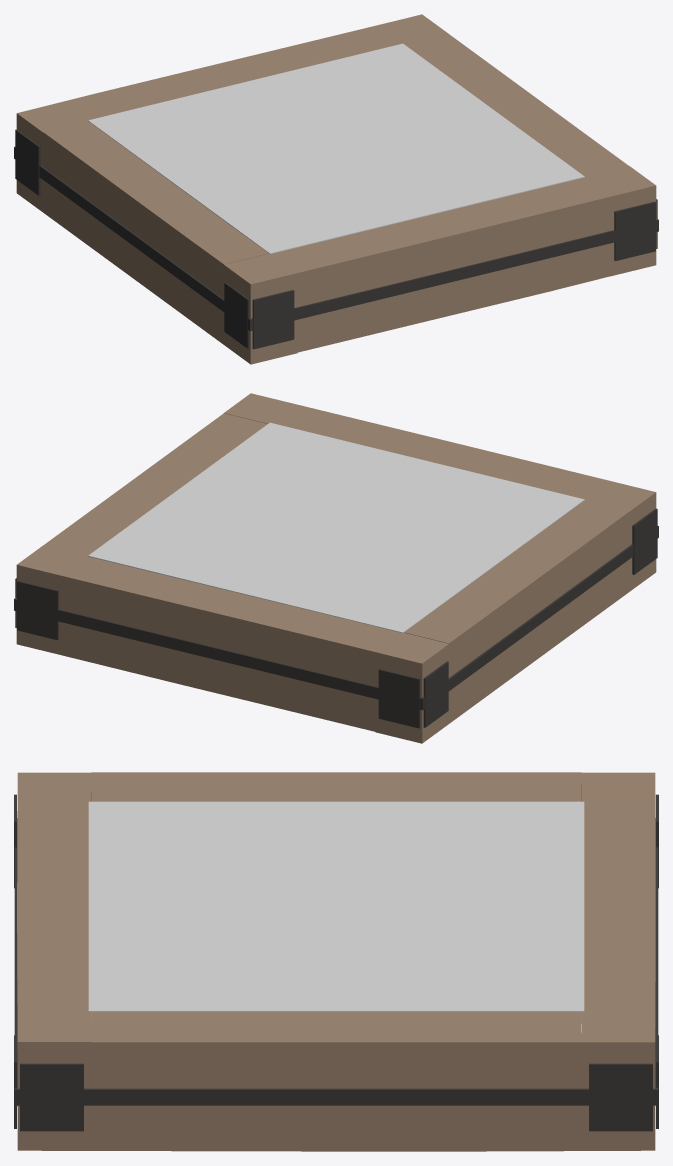
File: Kit_RealTower_R2_Fractured.fbx
The picture shows the model from 3 angles, top to bottom: view 1: azimuth 30°, elevation 25°; view 2: azimuth 150°, elevation 25°; view 3: azimuth 270°, elevation 25°; orthographic projection. The views are drawn at different scales.
Parts seen in each view (by area): view 1: Kit_RealTower_R2_frag_08, Kit_RealTower_R2_frag_10, Kit_RealTower_R2_frag_09, Kit_RealTower_R2_frag_05, Kit_RealTower_R2_frag_11, Kit_RealTower_R2_frag_12, Kit_RealTower_R2_frag_13, Kit_RealTower_R2_frag_14, Kit_RealTower_R2_frag_04, Kit_RealTower_R2_frag_01, Kit_RealTower_R2_frag_16, Kit_RealTower_R2_frag_15 (+1 smaller); view 2: Kit_RealTower_R2_frag_08, Kit_RealTower_R2_frag_10, Kit_RealTower_R2_frag_09, Kit_RealTower_R2_frag_14, Kit_RealTower_R2_frag_11, Kit_RealTower_R2_frag_16, Kit_RealTower_R2_frag_15, Kit_RealTower_R2_frag_06, Kit_RealTower_R2_frag_07, Kit_RealTower_R2_frag_01, Kit_RealTower_R2_frag_12, Kit_RealTower_R2_frag_05 (+1 smaller); view 3: Kit_RealTower_R2_frag_10, Kit_RealTower_R2_frag_11, Kit_RealTower_R2_frag_08, Kit_RealTower_R2_frag_09, Kit_RealTower_R2_frag_16, Kit_RealTower_R2_frag_02, Kit_RealTower_R2_frag_03, Kit_RealTower_R2_frag_05, Kit_RealTower_R2_frag_14, Kit_RealTower_R2_frag_12, Kit_RealTower_R2_frag_13, Kit_RealTower_R2_frag_15.
Boxes of the visible parts, bbox=[...] form: Kit_RealTower_R2_frag_08: bbox=[91, 147, 429, 305]; Kit_RealTower_R2_frag_10: bbox=[306, 86, 628, 215]; Kit_RealTower_R2_frag_09: bbox=[43, 81, 336, 231]; Kit_RealTower_R2_frag_05: bbox=[455, 166, 658, 314]; Kit_RealTower_R2_frag_11: bbox=[248, 34, 537, 123]; Kit_RealTower_R2_frag_12: bbox=[223, 232, 388, 349]; Kit_RealTower_R2_frag_13: bbox=[362, 199, 524, 297]; Kit_RealTower_R2_frag_14: bbox=[14, 79, 178, 248]; Kit_RealTower_R2_frag_04: bbox=[297, 281, 455, 352]; Kit_RealTower_R2_frag_01: bbox=[170, 261, 297, 364]; Kit_RealTower_R2_frag_16: bbox=[289, 14, 448, 64]; Kit_RealTower_R2_frag_15: bbox=[154, 46, 313, 97]; Kit_RealTower_R2_frag_08: bbox=[333, 460, 629, 686]; Kit_RealTower_R2_frag_10: bbox=[133, 413, 424, 551]; Kit_RealTower_R2_frag_09: bbox=[243, 528, 537, 677]; Kit_RealTower_R2_frag_14: bbox=[284, 611, 500, 743]; Kit_RealTower_R2_frag_11: bbox=[44, 480, 300, 594]; Kit_RealTower_R2_frag_16: bbox=[14, 545, 175, 655]; Kit_RealTower_R2_frag_15: bbox=[148, 578, 310, 676]; Kit_RealTower_R2_frag_06: bbox=[217, 660, 375, 731]; Kit_RealTower_R2_frag_07: bbox=[63, 623, 217, 693]; Kit_RealTower_R2_frag_01: bbox=[577, 508, 658, 629]; Kit_RealTower_R2_frag_12: bbox=[494, 458, 658, 545]; Kit_RealTower_R2_frag_05: bbox=[224, 393, 383, 443]; Kit_RealTower_R2_frag_10: bbox=[88, 907, 426, 1088]; Kit_RealTower_R2_frag_11: bbox=[339, 907, 584, 1088]; Kit_RealTower_R2_frag_08: bbox=[88, 772, 339, 907]; Kit_RealTower_R2_frag_09: bbox=[339, 772, 584, 907]; Kit_RealTower_R2_frag_16: bbox=[446, 953, 658, 1151]; Kit_RealTower_R2_frag_02: bbox=[15, 1063, 233, 1151]; Kit_RealTower_R2_frag_03: bbox=[232, 1088, 446, 1151]; Kit_RealTower_R2_frag_05: bbox=[14, 953, 91, 1128]; Kit_RealTower_R2_frag_14: bbox=[581, 772, 658, 909]; Kit_RealTower_R2_frag_12: bbox=[14, 772, 91, 909]; Kit_RealTower_R2_frag_13: bbox=[14, 863, 88, 1000]; Kit_RealTower_R2_frag_15: bbox=[584, 863, 658, 1000].
Size of what is drawn, in the model's own units: 2.63 by 0.497 by 2.63.
